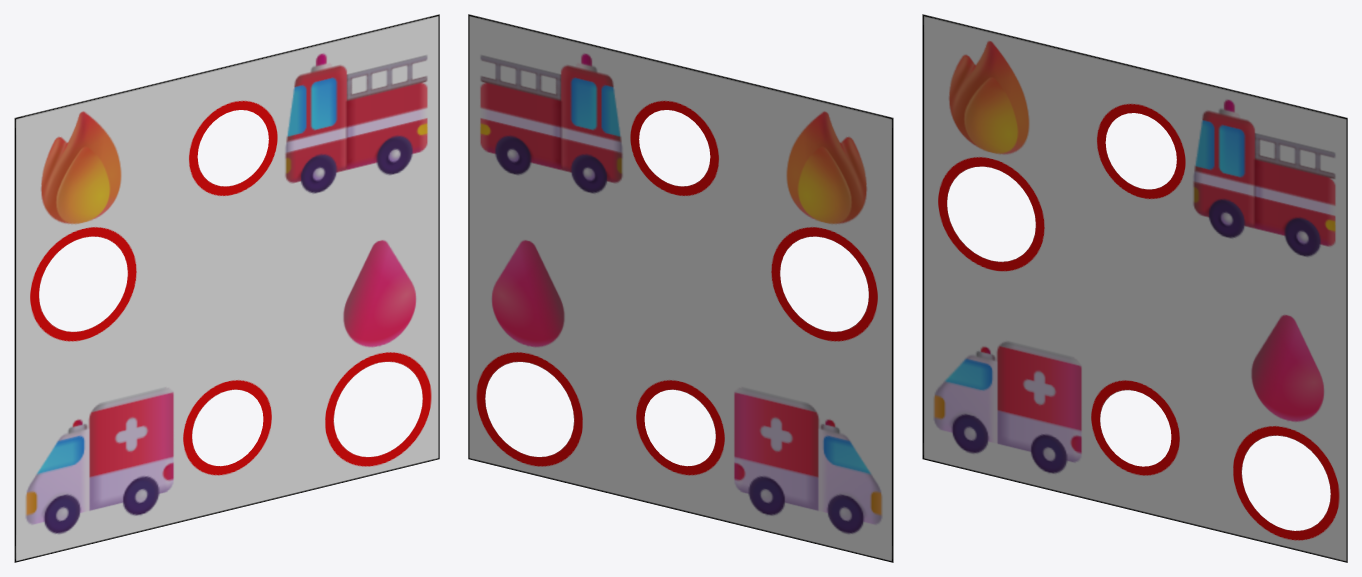
The picture shows the model from 3 angles, left to right: view 1: azimuth 30°, elevation 25°; view 2: azimuth 150°, elevation 25°; view 3: azimuth 330°, elevation 25°; orthographic projection.
Parts seen in each view (by area): view 1: Cube; view 2: Cube; view 3: Cube.
Boxes of the visible parts, box(x1,y1,x2,y2) form: Cube: box(14, 14, 439, 562); Cube: box(468, 14, 893, 562); Cube: box(922, 14, 1347, 562).
Bounding box in the file's own units: 0.6096 × 0.6096 × 0.
1 material, 1 textured.
